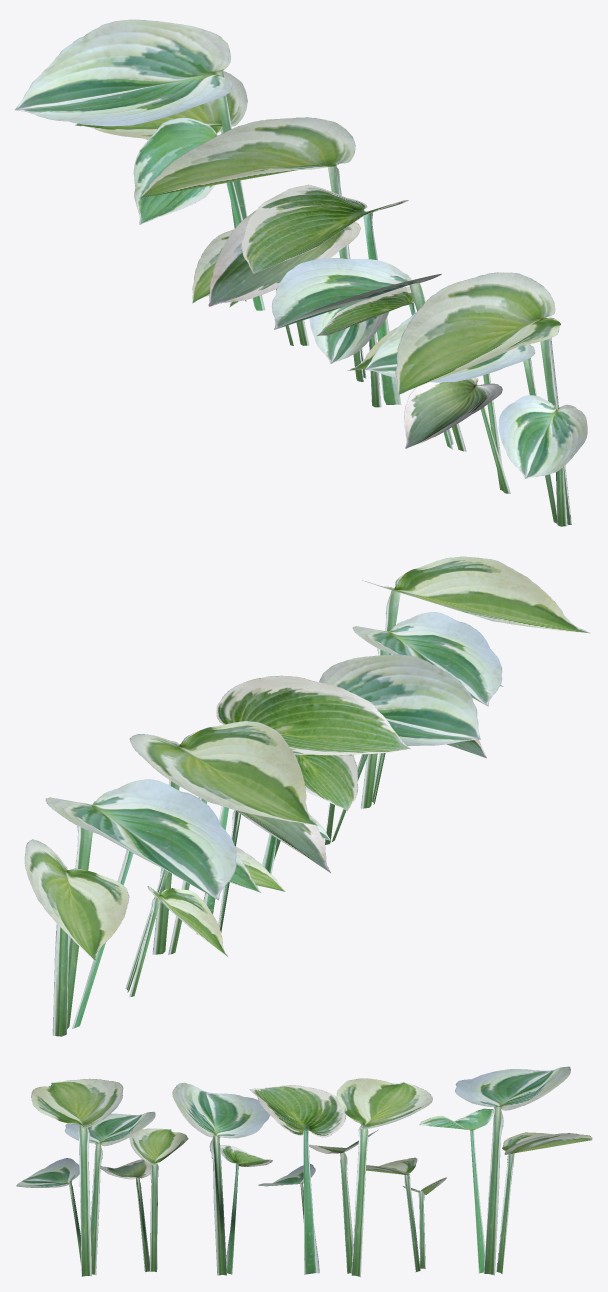
The model's file is plant_small_wg_00_line_07.fbx.
3 views of the same model, one above another, from view 1: azimuth 30°, elevation 25°; view 2: azimuth 150°, elevation 25°; view 3: azimuth 270°, elevation 25° (orthographic). The views are drawn at different scales.
Visible parts, largest first — view 1: plant_small_wg_00_line_07; view 2: plant_small_wg_00_line_07; view 3: plant_small_wg_00_line_07.
Part boxes in pixels (box(x1,y1,x2,y2)): plant_small_wg_00_line_07: box(15, 19, 587, 526); plant_small_wg_00_line_07: box(24, 556, 590, 1036); plant_small_wg_00_line_07: box(16, 1066, 592, 1277).
Bounding box in the file's own units: 36.03 × 39.8 × 120.
1 material, 1 textured.
